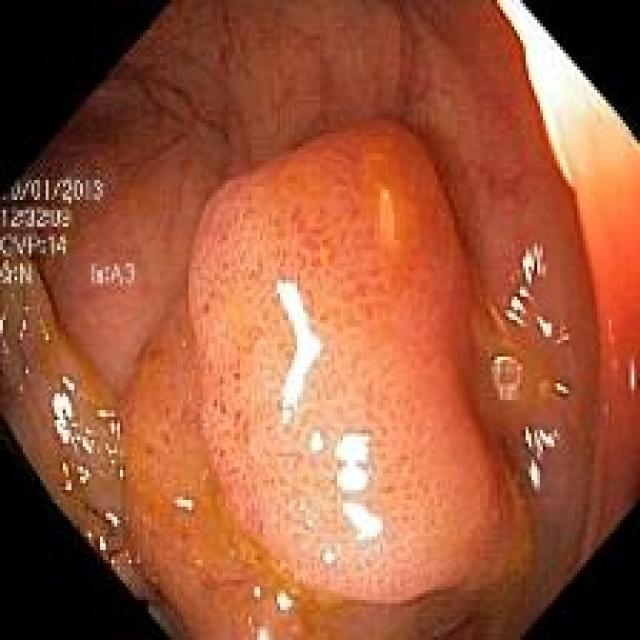Polyps: (189, 122, 525, 602)
